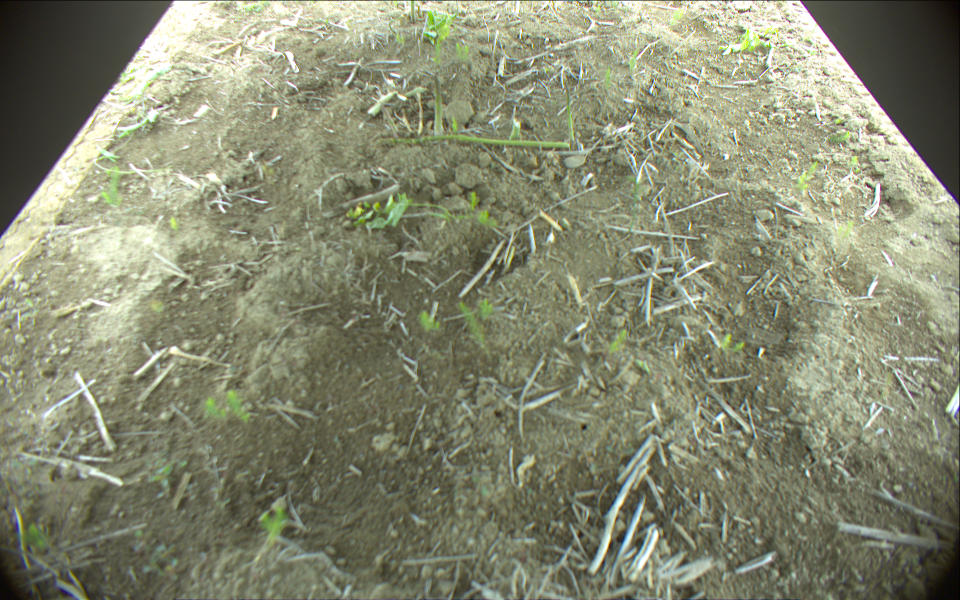aspa: (382, 134, 571, 148), (432, 71, 444, 136), (565, 78, 575, 143), (409, 1, 416, 22)
